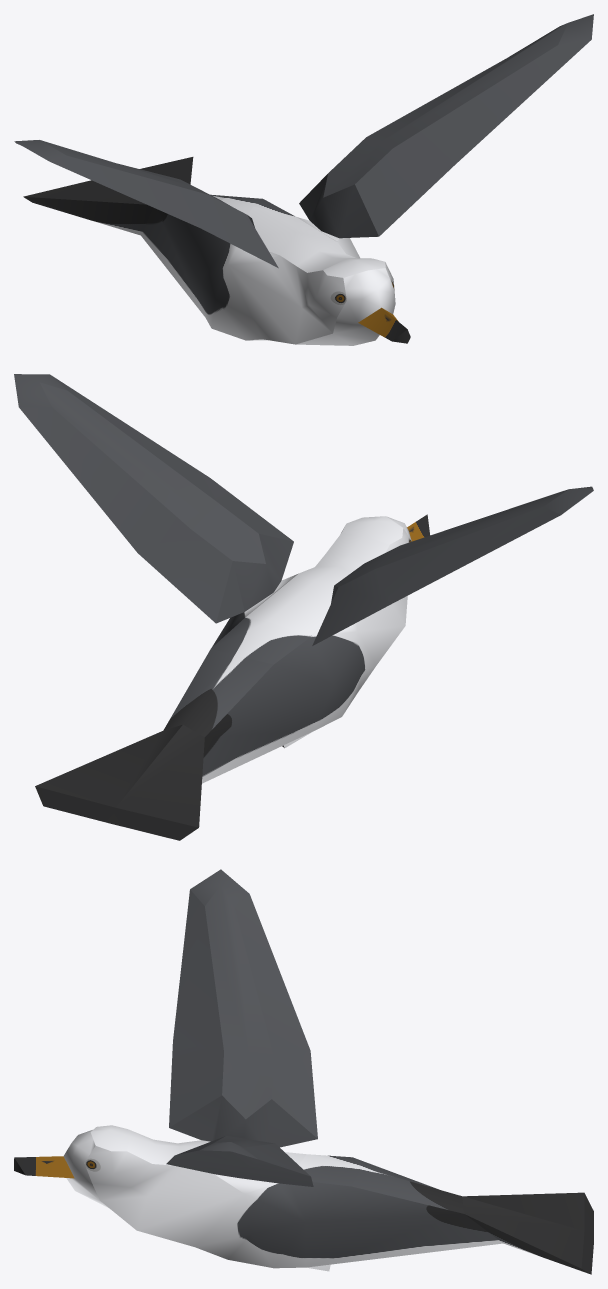
Rendered from flying-gull.glb.
3 views of the same model, one above another, from view 1: azimuth 30°, elevation 25°; view 2: azimuth 150°, elevation 25°; view 3: azimuth 270°, elevation 25° (orthographic). The views are drawn at different scales.
Parts seen in each view (by area): view 1: Flying_seagull; view 2: Flying_seagull; view 3: Flying_seagull.
Boxes of the visible parts, x1,y1,x2,y2 form: Flying_seagull: (14, 14, 593, 345); Flying_seagull: (14, 374, 593, 840); Flying_seagull: (14, 869, 593, 1274).
Bounding box in the file's own units: 88.47 × 40.7 × 82.16.
1 material, 1 textured.
